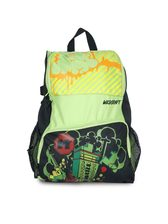bag: (30, 27, 142, 190)
